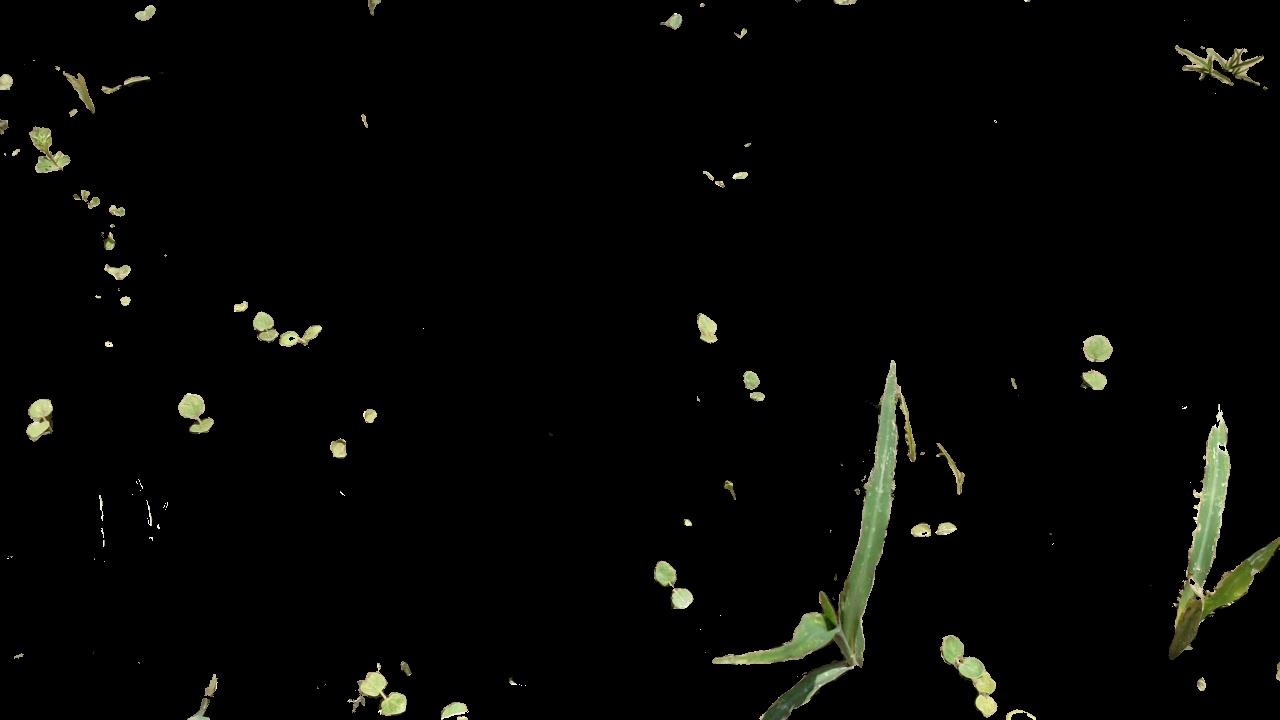crop: (715, 345, 902, 714), (1160, 387, 1280, 681)
weed: (930, 629, 1051, 720), (1174, 31, 1278, 94), (351, 666, 414, 720), (1072, 331, 1116, 393), (650, 562, 701, 614), (30, 127, 82, 174), (20, 395, 65, 447), (166, 393, 223, 433), (280, 316, 329, 351)
